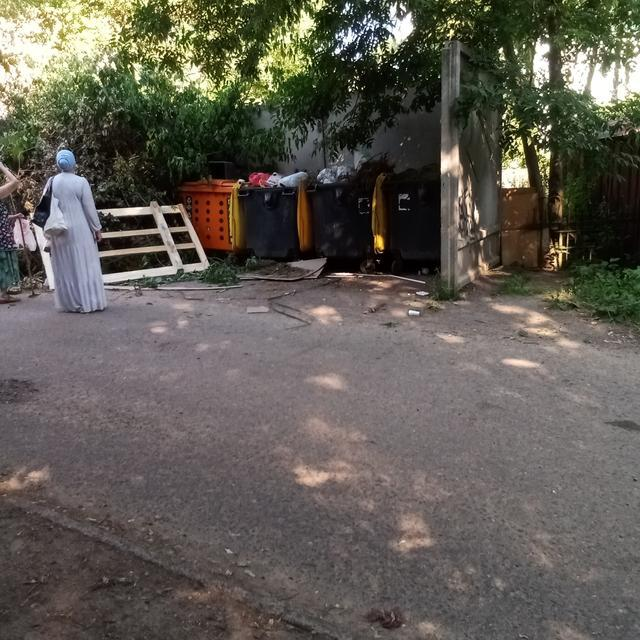Trash_Can_Closed: (177, 176, 241, 255)
Trash_Can_Full: (307, 161, 373, 261), (241, 170, 305, 261)
